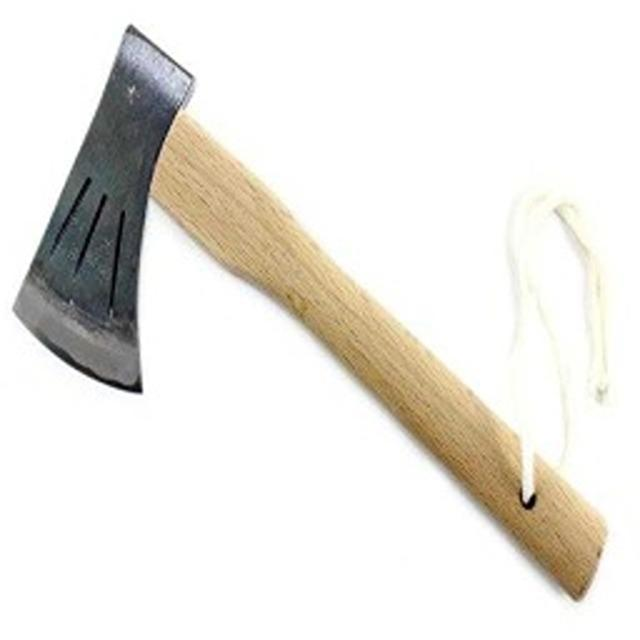ax: (4, 18, 621, 612)
